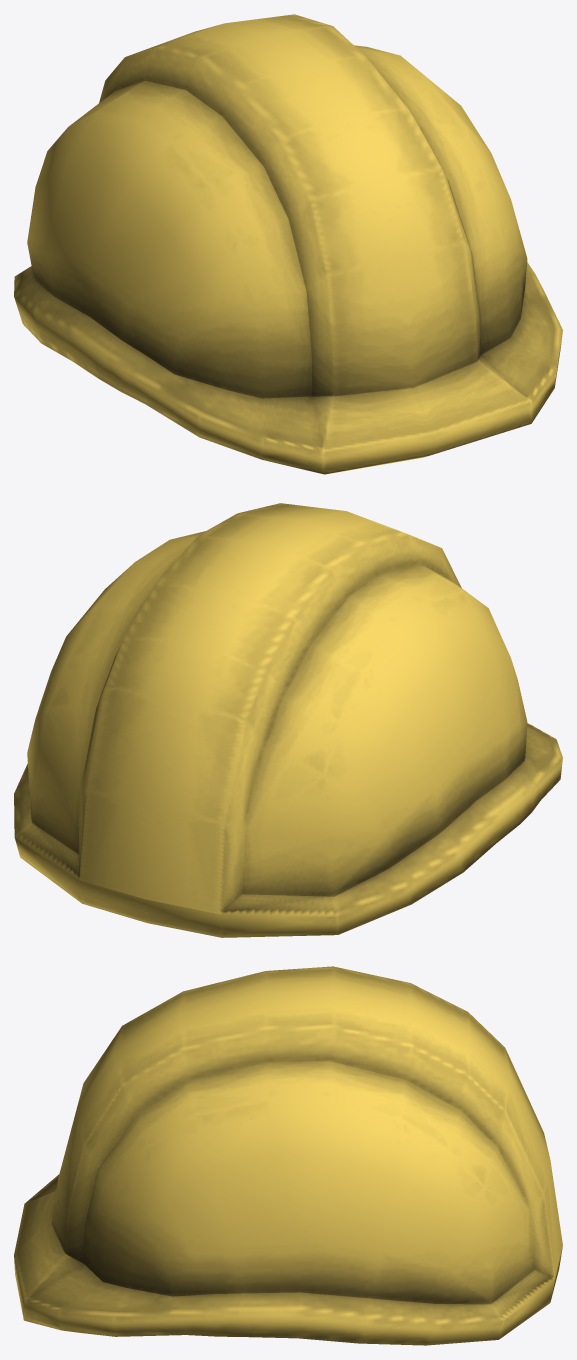
Rendered from hat_helmet.fbx.
3 renders of one model, top to bottom at view 1: azimuth 30°, elevation 25°; view 2: azimuth 150°, elevation 25°; view 3: azimuth 270°, elevation 25°, orthographic. The views are drawn at different scales.
Parts seen in each view (by area): view 1: hat_helmet; view 2: hat_helmet; view 3: hat_helmet.
Part boxes in pixels (x1,y1,x2,y2): hat_helmet: [14, 14, 562, 474]; hat_helmet: [14, 503, 562, 937]; hat_helmet: [14, 966, 562, 1345].
Bounding box in the file's own units: 1.77 × 1.22 × 2.08.
